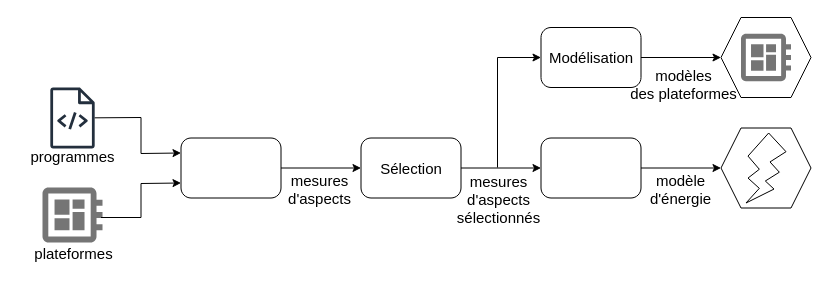
Some shapes in this 828 by 286 pixel diagram are drawn without their labels. The shapes that lost their labels are listed below. From the top down, each one's box as (x1, y1, x2, y2) in pixels, then its label:
(180, 137, 281, 198): Exécution
(540, 137, 641, 198): Régression
